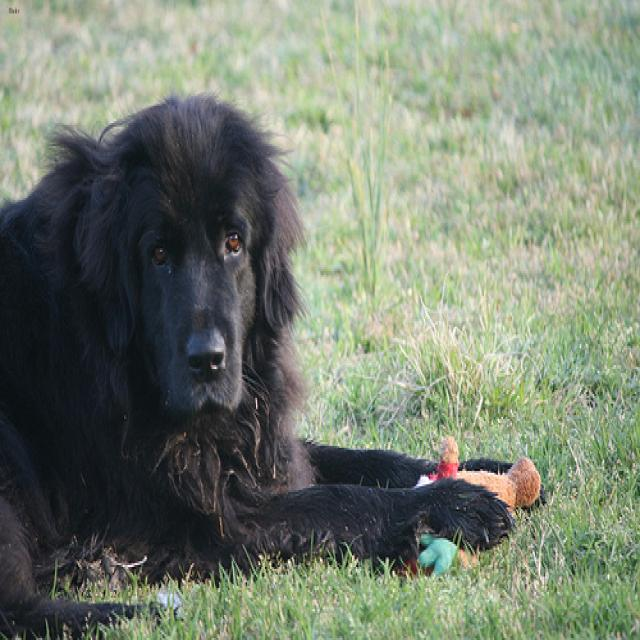dog-newfoundland: (1, 71, 517, 636)
